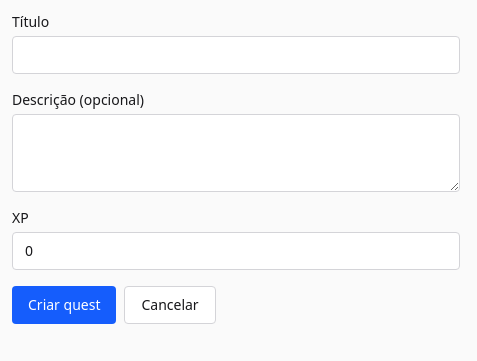
Test: <QuestForm mode="create" /> › mostra erro de validacao quando titulo esta vazio
Clear the field labelled "Título" at coordinates (236, 55), box [12, 36, 460, 74]
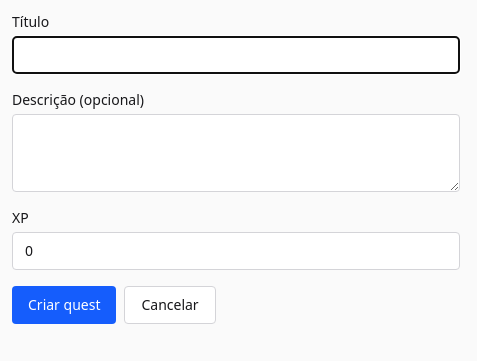
Click the button "Criar quest" at coordinates (64, 305), box [12, 286, 116, 324]
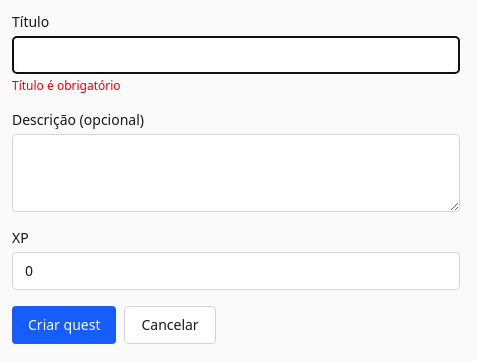
Now the text "Título é obrigatório" is shown, box [12, 77, 121, 94]
